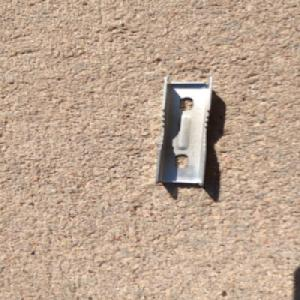ClampPart: (152, 74, 216, 187)
